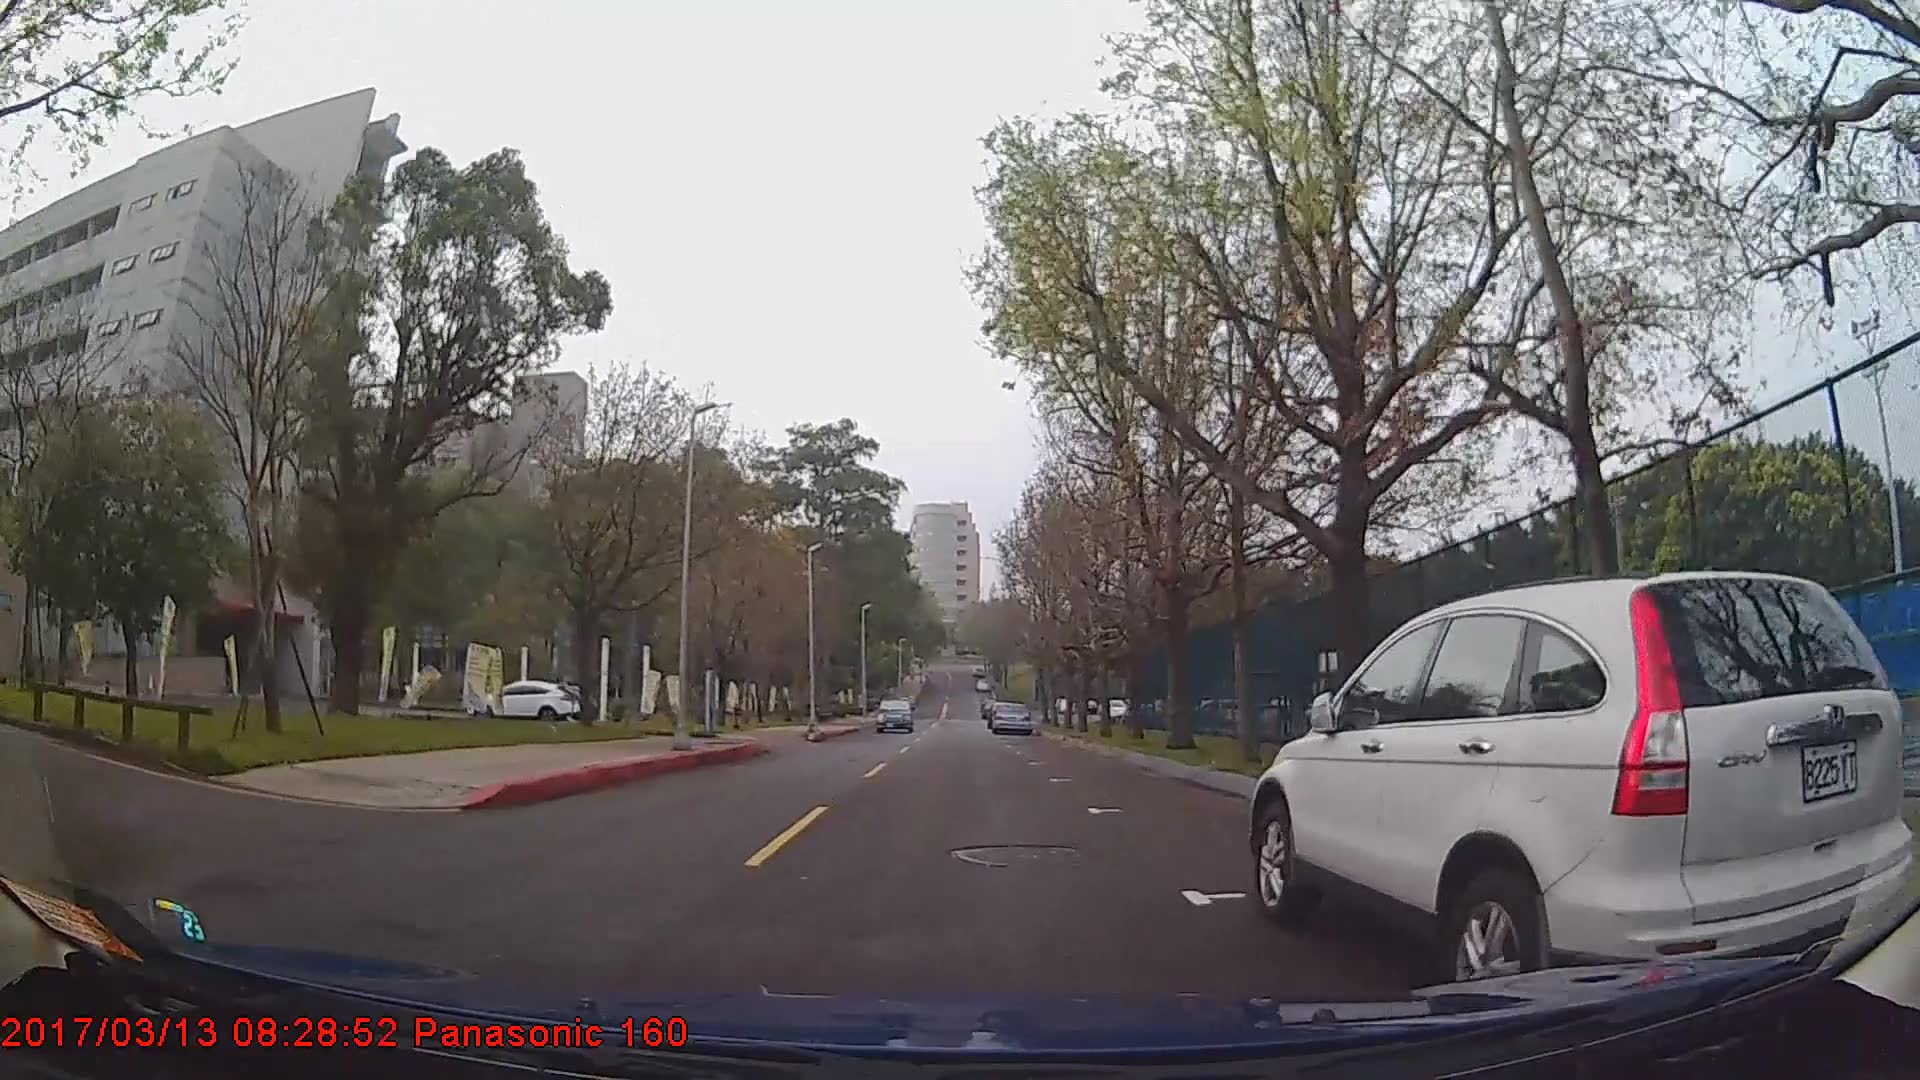vehicle: (1245, 568, 1909, 1019), (469, 678, 578, 723), (990, 698, 1030, 733), (876, 694, 913, 731)
